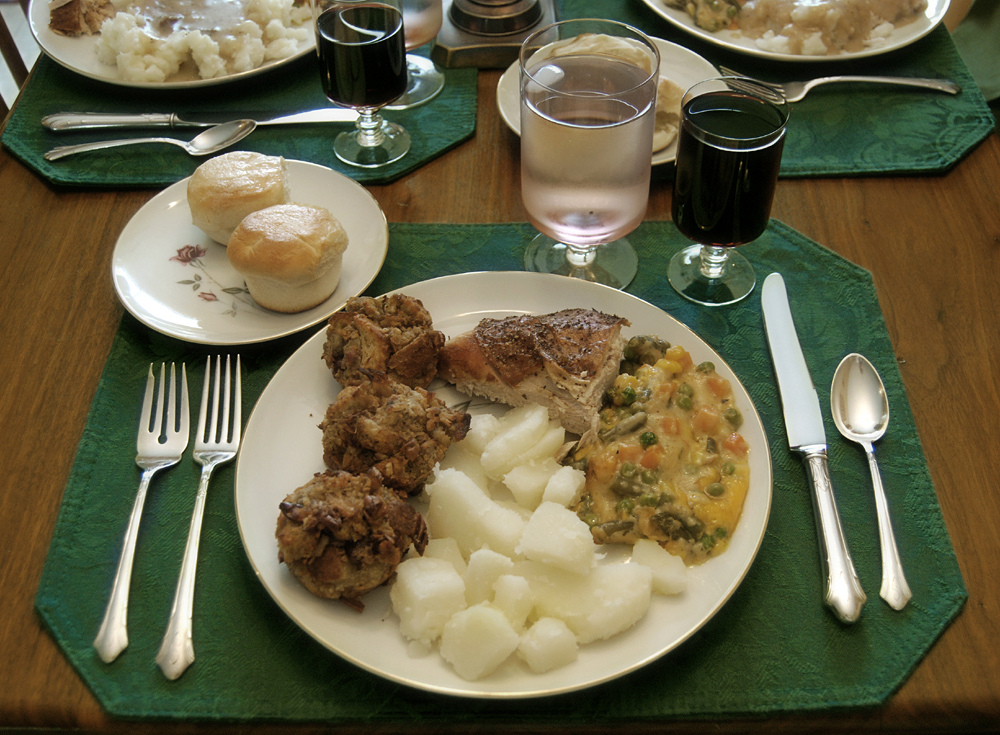glass of water: (522, 14, 661, 304)
meatballs: (269, 476, 435, 610), (296, 376, 473, 486), (326, 293, 446, 392)
